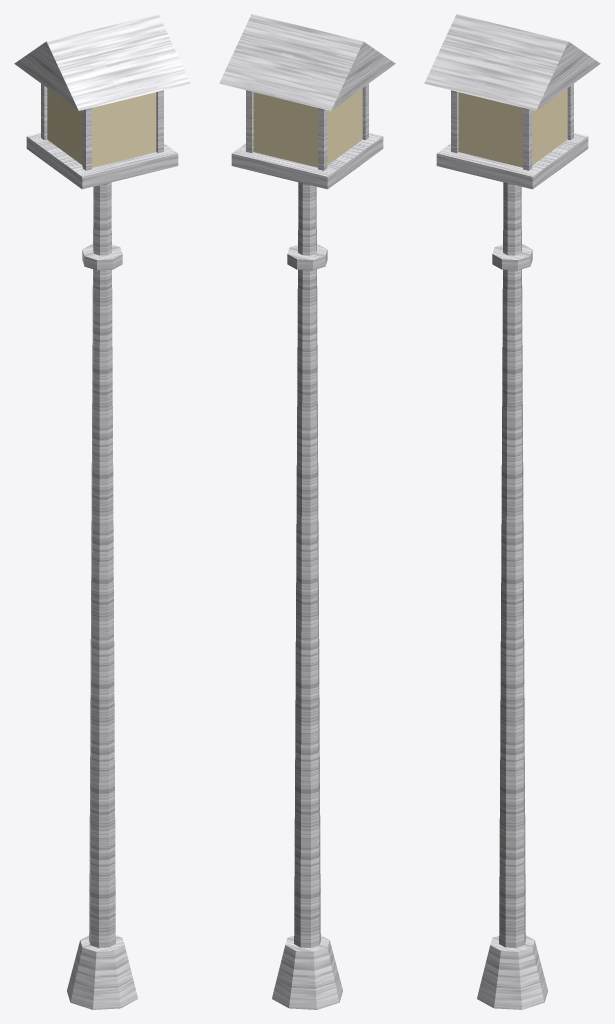
The model's file is lampione.obj.
The picture shows the model from 3 angles, left to right: view 1: azimuth 30°, elevation 25°; view 2: azimuth 150°, elevation 25°; view 3: azimuth 330°, elevation 25°; orthographic projection.
Visible parts, largest first — view 1: metallo_000, liscio_001; view 2: metallo_000, liscio_001; view 3: metallo_000, liscio_001.
Boxes of the visible parts, <box> form: metallo_000: <box>14,14,190,1009</box>; liscio_001: <box>47,88,156,167</box>; metallo_000: <box>219,14,395,1009</box>; liscio_001: <box>253,88,362,167</box>; metallo_000: <box>424,14,600,1009</box>; liscio_001: <box>458,88,567,167</box>.
Size of the model in its own units: 0.56 by 4.62 by 0.56.
Materials: 2 (1 with a texture image).
